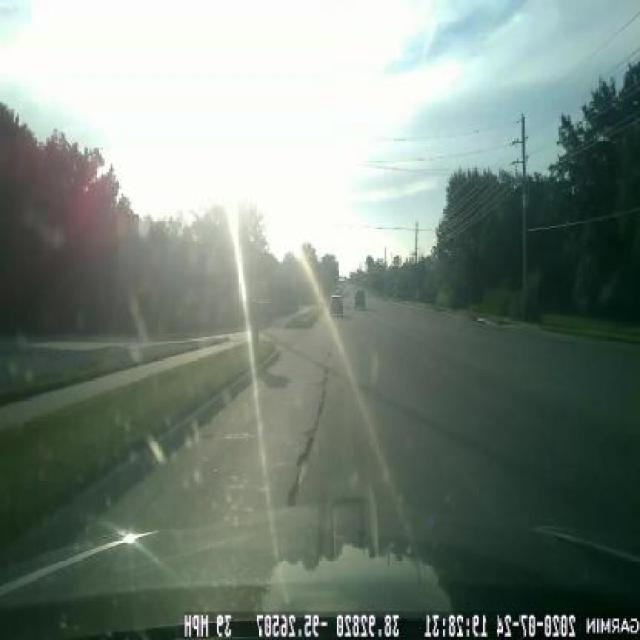pothole: (286, 438, 319, 491)
